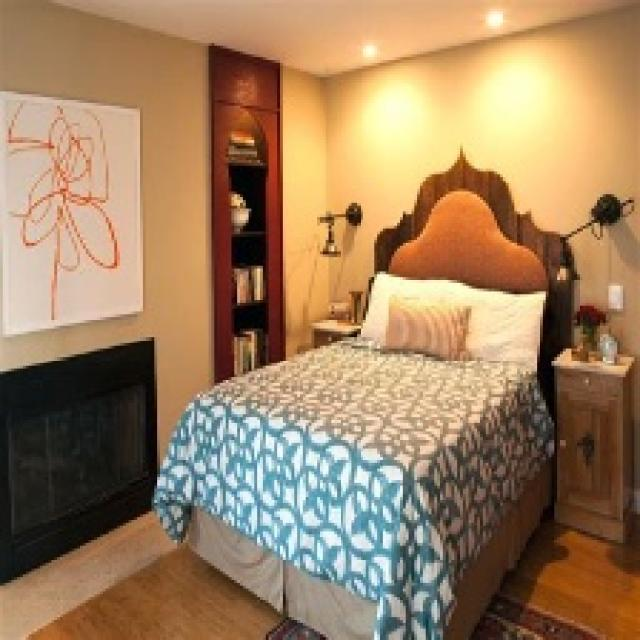Bed: (151, 146, 580, 637)
